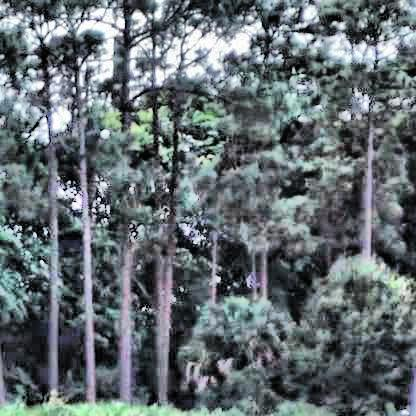golfball: (99, 126, 108, 136)
